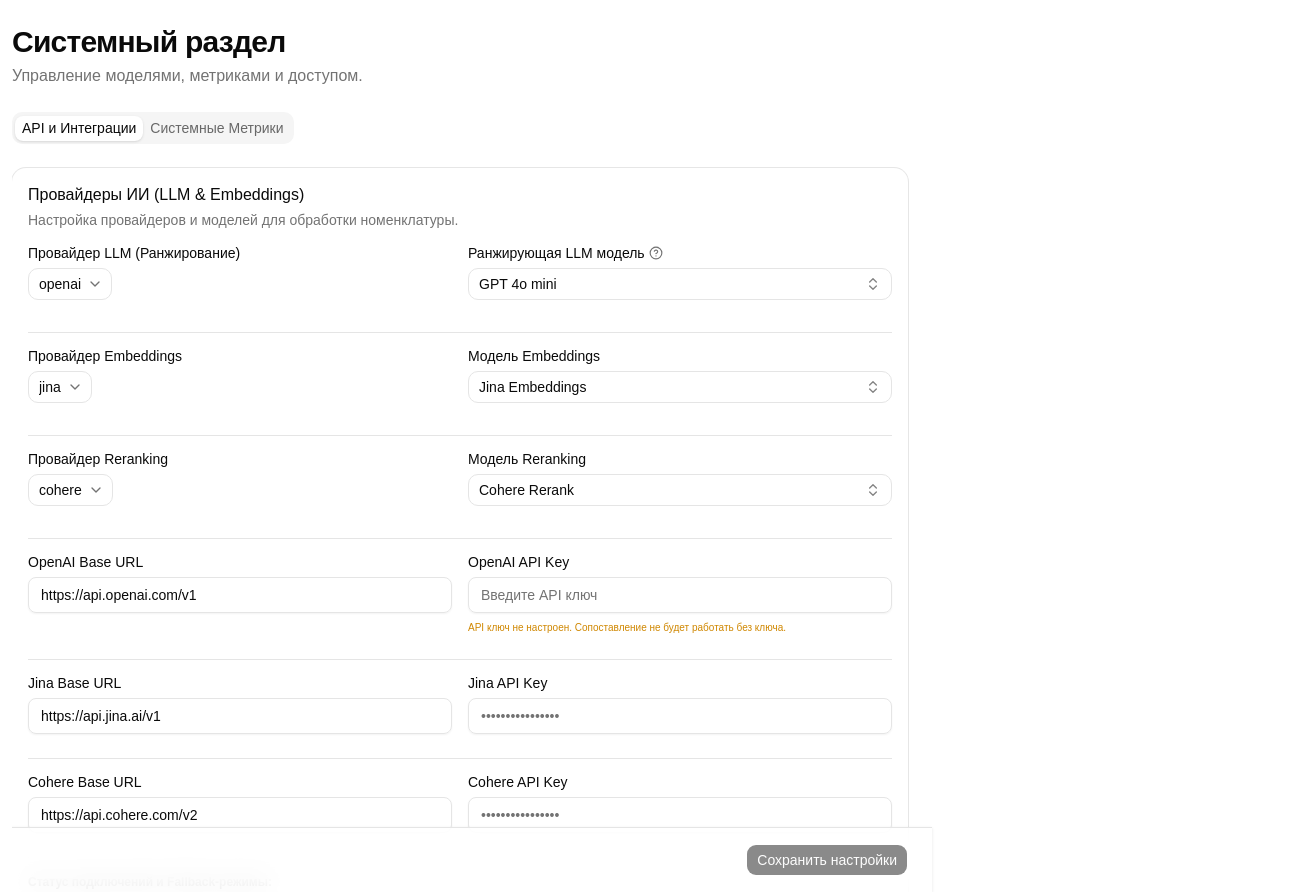
Test case: catalog and settings pages › shows settings connection failures and resets unsaved changes
Type "temporary-key" into the password field with placeholder "Введите API ключ" at (680, 595), box [468, 577, 892, 613]
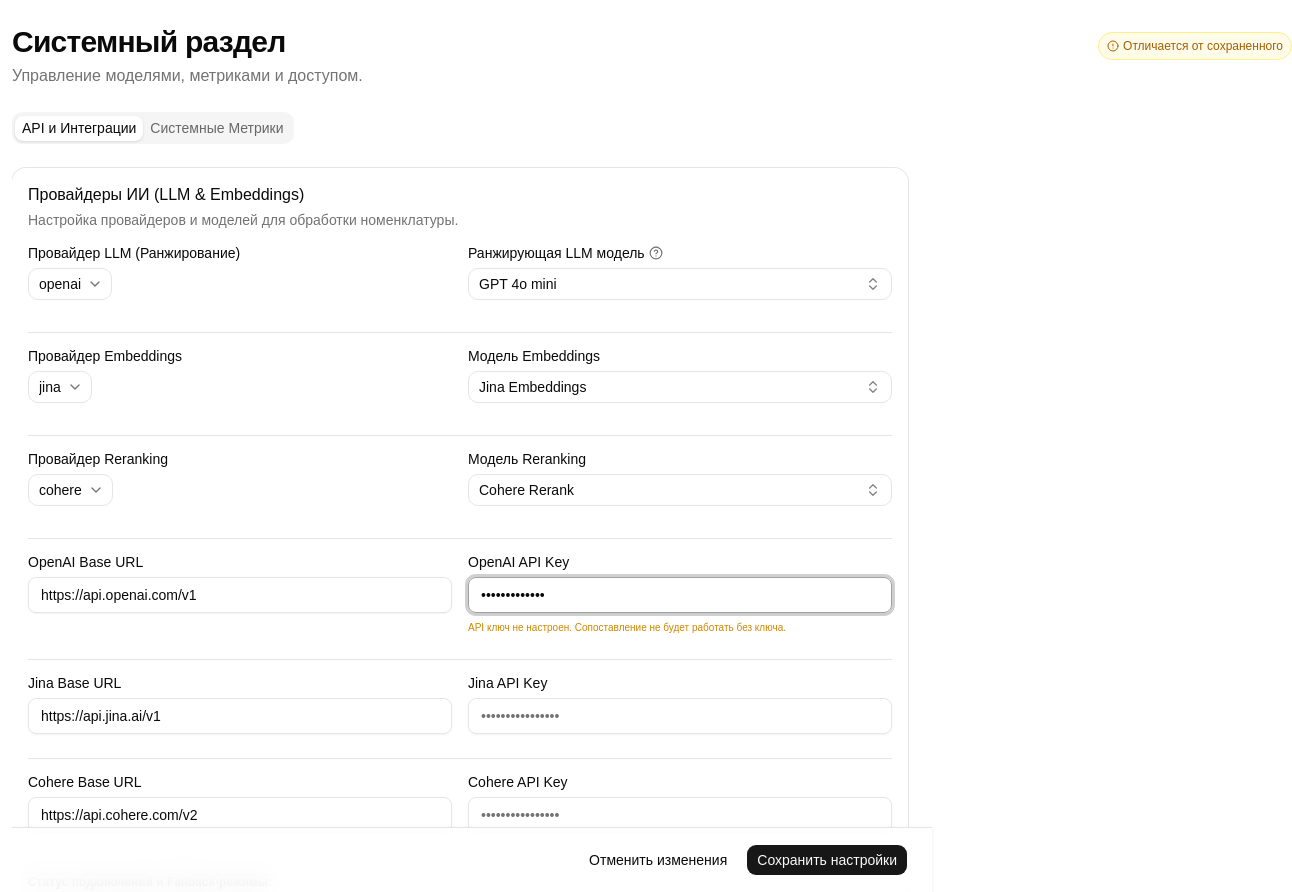
Check: the text "Отличается от сохраненного" is shown, box [1098, 32, 1291, 60]
Click the button "Отменить изменения" at (658, 860), box [578, 844, 738, 876]
(page scrolled)
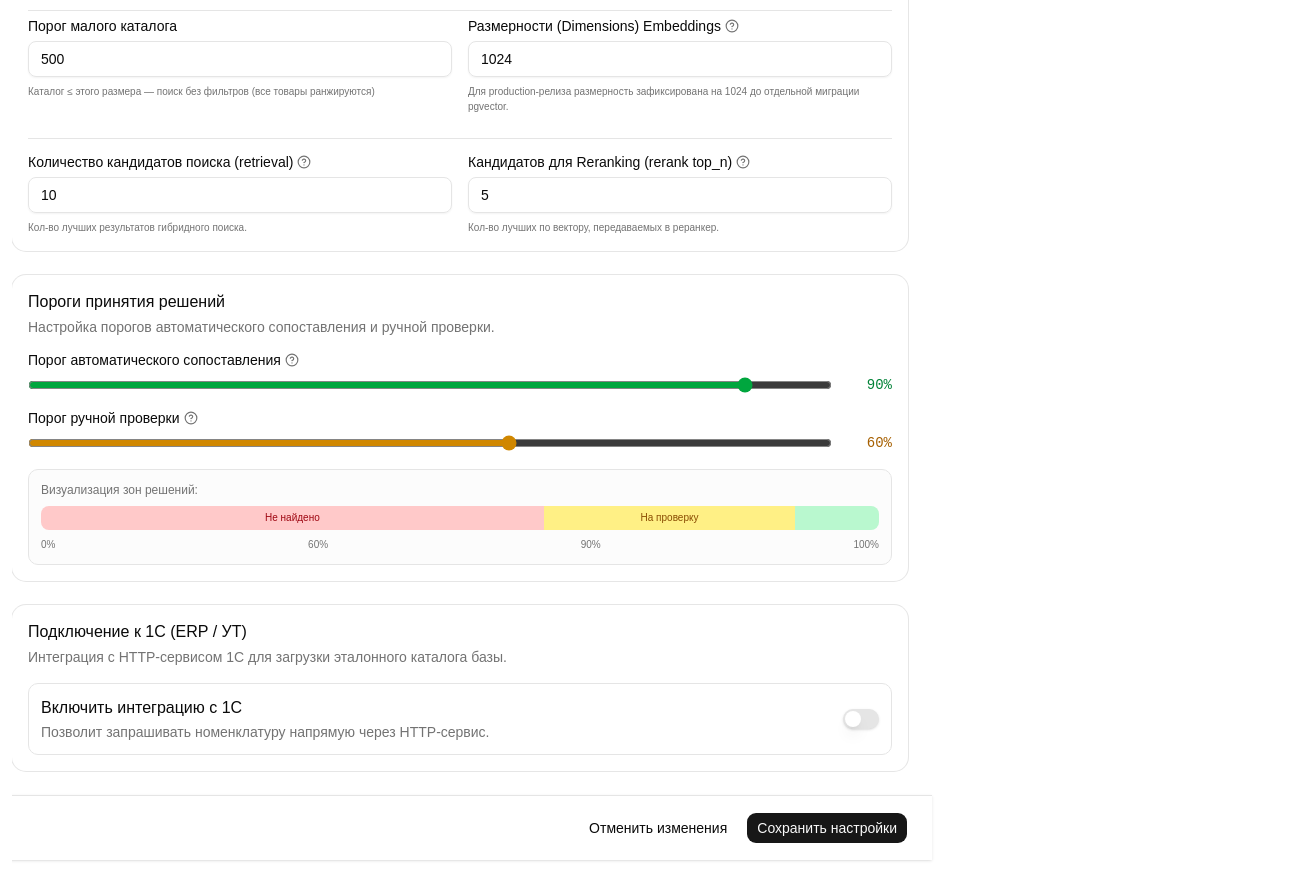
Click the switch named "Включить интеграцию с 1С" at (861, 719), box [843, 709, 879, 729]
(page scrolled)
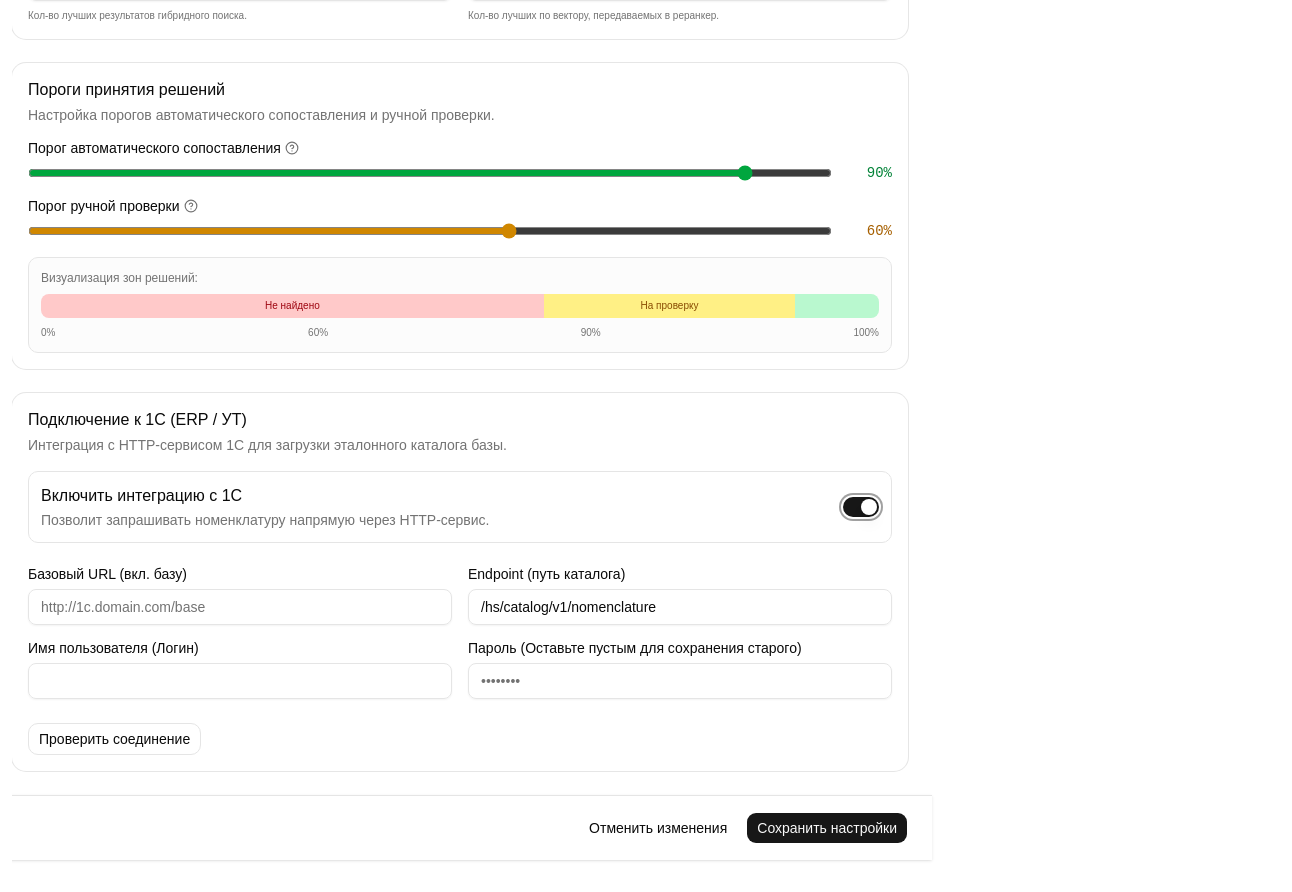
Click the button "Проверить соединение" at (115, 739), box [28, 723, 201, 755]
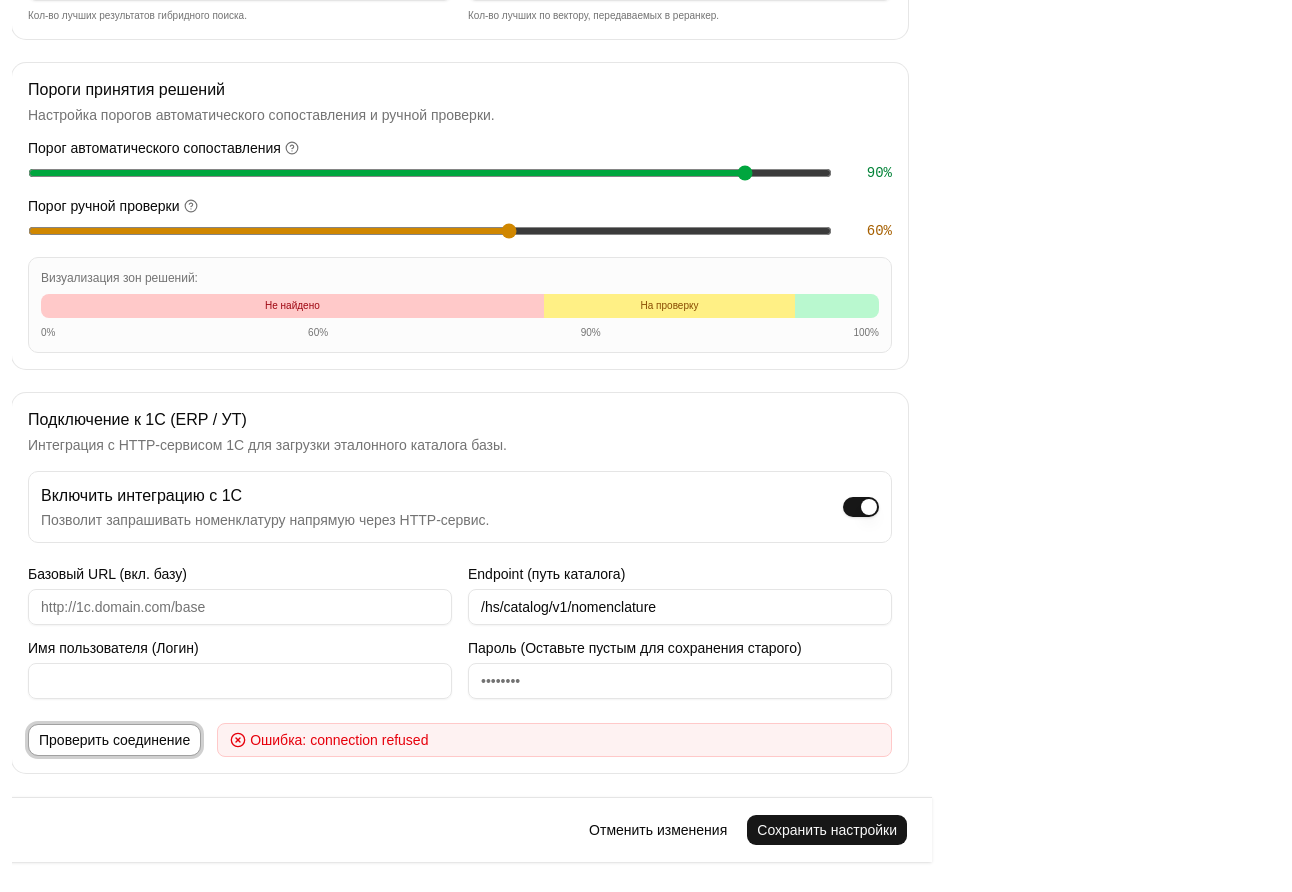
Check: the text "Ошибка: connection refused" is shown, box [250, 730, 428, 750]
